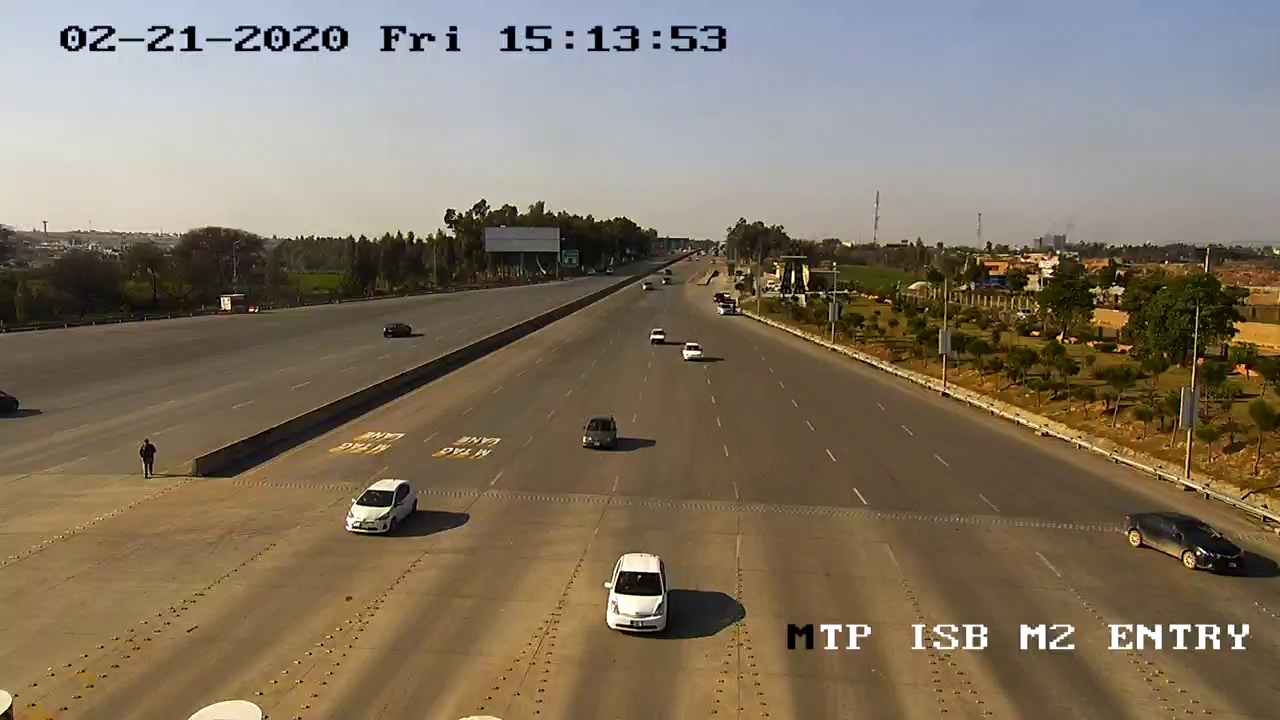f1: (1119, 503, 1253, 582), (598, 544, 680, 645), (339, 470, 430, 545)
